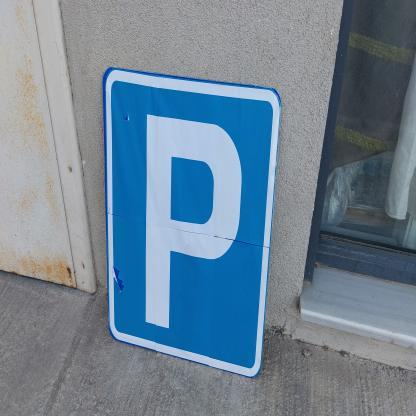parking: (103, 66, 283, 381)
